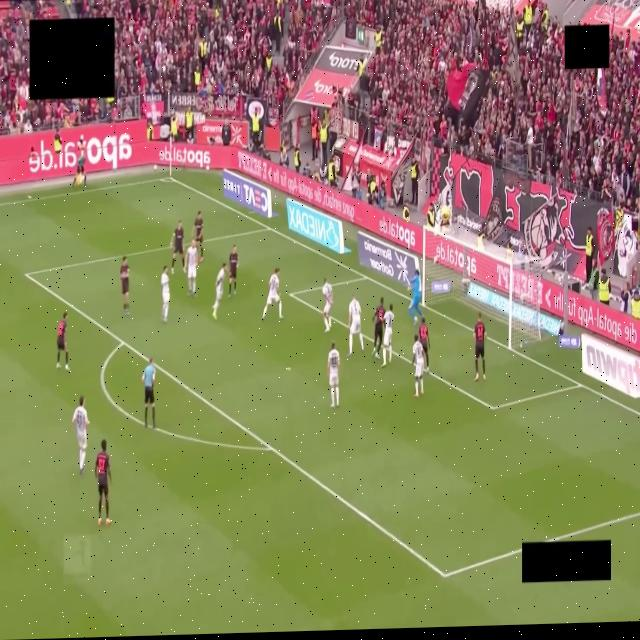player: (94, 440, 111, 525), (72, 397, 88, 475), (262, 268, 282, 319), (348, 295, 363, 357), (473, 313, 485, 381), (327, 342, 339, 407), (381, 304, 393, 367), (170, 221, 184, 274), (408, 271, 422, 324), (212, 263, 225, 320), (372, 298, 384, 358), (56, 312, 68, 370), (412, 335, 423, 397), (185, 240, 197, 296), (418, 317, 429, 372), (322, 278, 332, 332), (120, 256, 129, 315), (160, 266, 169, 322), (192, 211, 202, 261), (228, 245, 237, 296)
referee: (141, 359, 155, 427)
